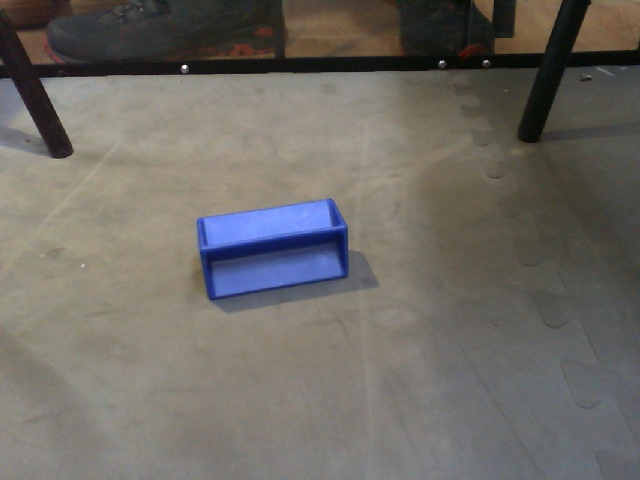BlueSample: (193, 197, 360, 302)
